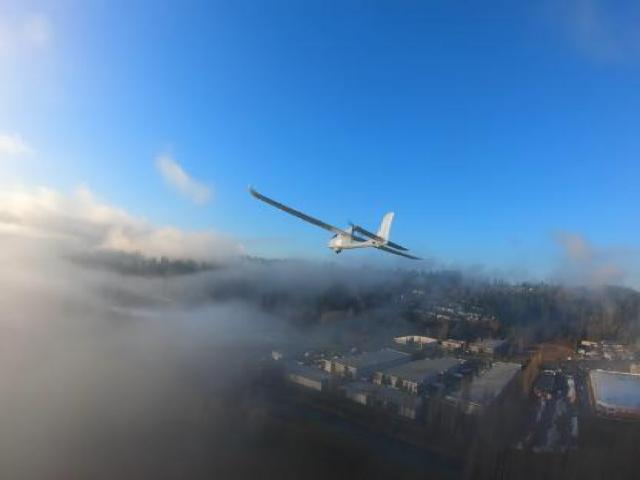uav: (241, 178, 430, 279)
